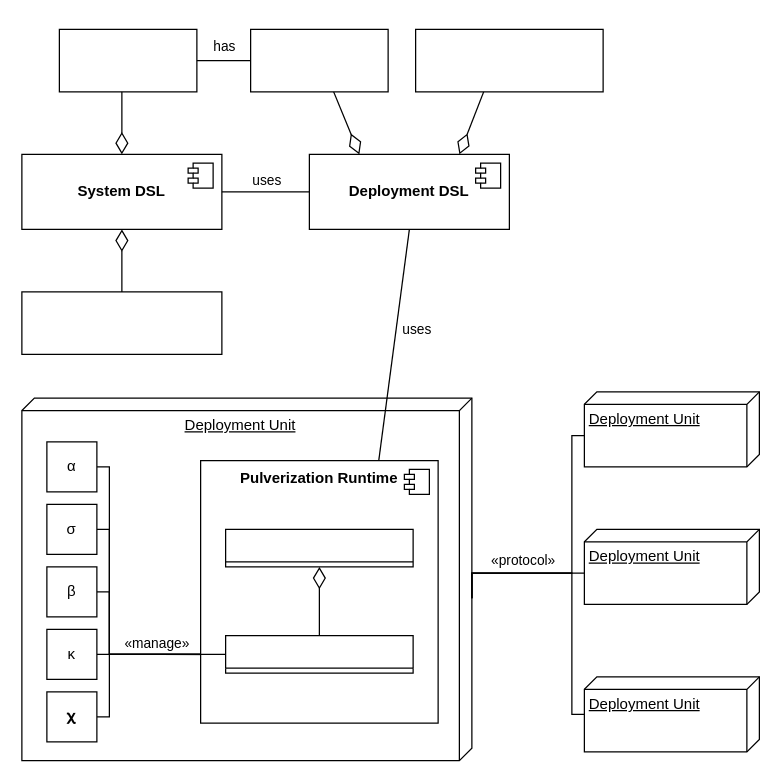
Image size: 781x783. Some labels were removed from this diagram. Here are the shapes that lost their labels. From the top down, the centre of each, then its label:
(x=127, y=60): «interface» Capability
(x=318, y=60): «interface» Host
(x=508, y=60): «interface» ReconfigurationEvent
(x=121, y=322): «interface» PulverizedComponent
(x=318, y=547): UnitReconfigurator
(x=318, y=653): Spawner
